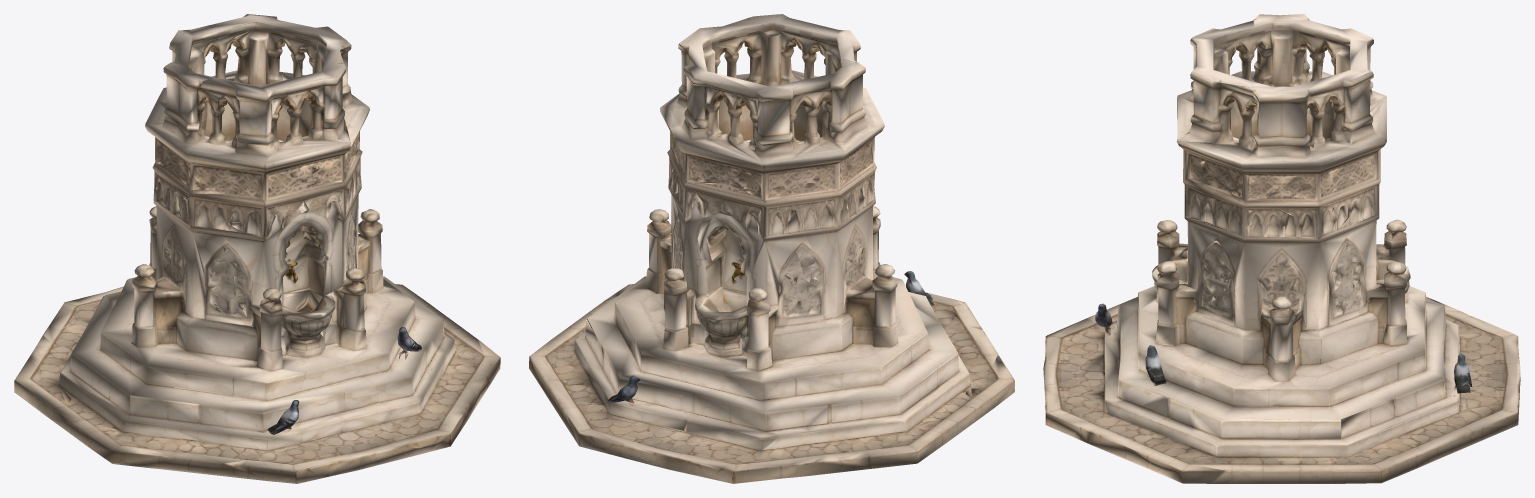
Rendered from city_izmir_clock_tower_base.glb.
3 views of the same model, side by side, from view 1: azimuth 30°, elevation 25°; view 2: azimuth 150°, elevation 25°; view 3: azimuth 270°, elevation 25° (orthographic).
Parts seen in each view (by area): view 1: Mesh1.0; view 2: Mesh1.0; view 3: Mesh1.0.
Part boxes in pixels (x1,y1,x2,y2): Mesh1.0: [14, 14, 500, 483]; Mesh1.0: [529, 14, 1014, 483]; Mesh1.0: [1043, 14, 1520, 483].
Bounding box in the file's own units: 5.25 × 4.2 × 5.45.
Materials: 1 (1 with a texture image).
